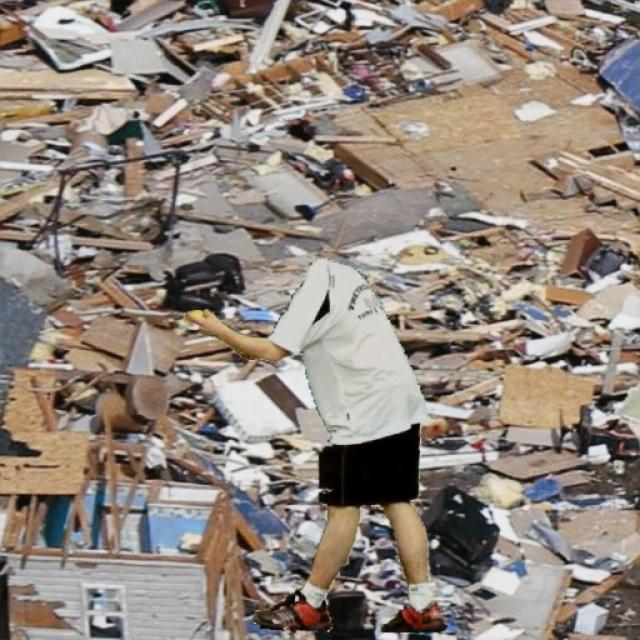Person in Rubble: (185, 258, 446, 632)
